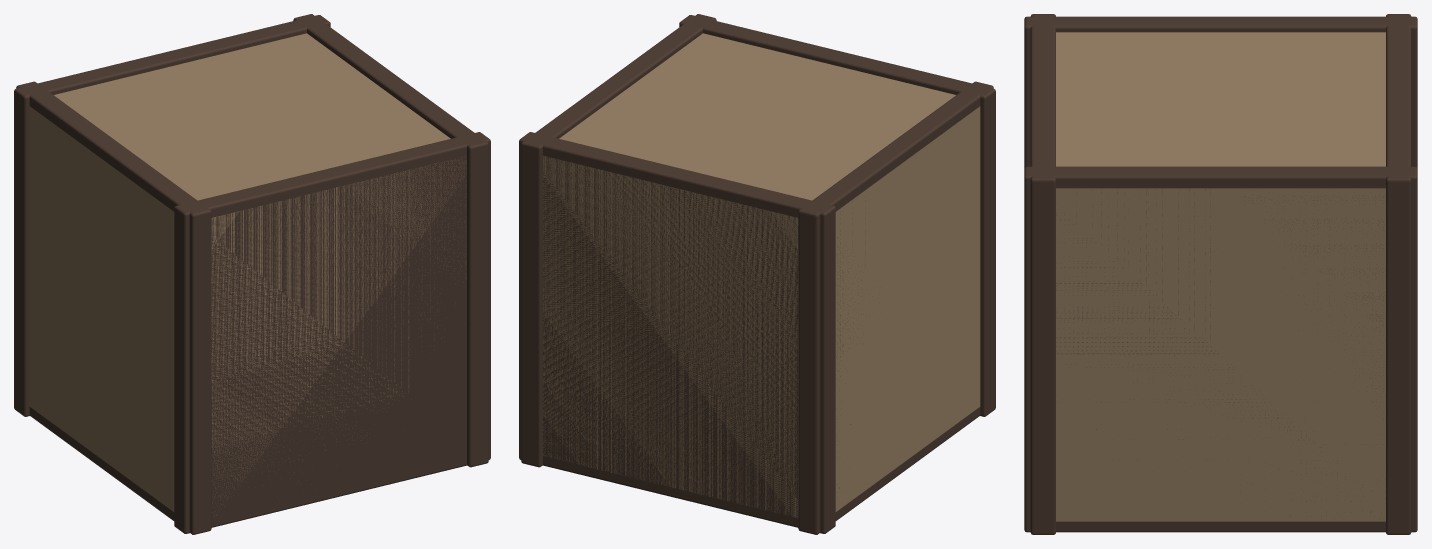
File: crate_plain.glb
The picture shows the model from 3 angles, left to right: view 1: azimuth 30°, elevation 25°; view 2: azimuth 150°, elevation 25°; view 3: azimuth 270°, elevation 25°; orthographic projection. The views are drawn at different scales.
Visible parts, largest first — view 1: GD_crate_plain__m1, GD_crate_plain__m0; view 2: GD_crate_plain__m0, GD_crate_plain__m1; view 3: GD_crate_plain__m0, GD_crate_plain__m1.
Part boxes in pixels (x1,y1,x2,y2): GD_crate_plain__m1: (14, 14, 490, 534); GD_crate_plain__m0: (29, 33, 466, 515); GD_crate_plain__m0: (543, 33, 980, 518); GD_crate_plain__m1: (519, 14, 995, 534); GD_crate_plain__m0: (1056, 32, 1385, 521); GD_crate_plain__m1: (1024, 14, 1417, 534).
Size of the model in its own units: 0.62 by 0.62 by 0.62.
